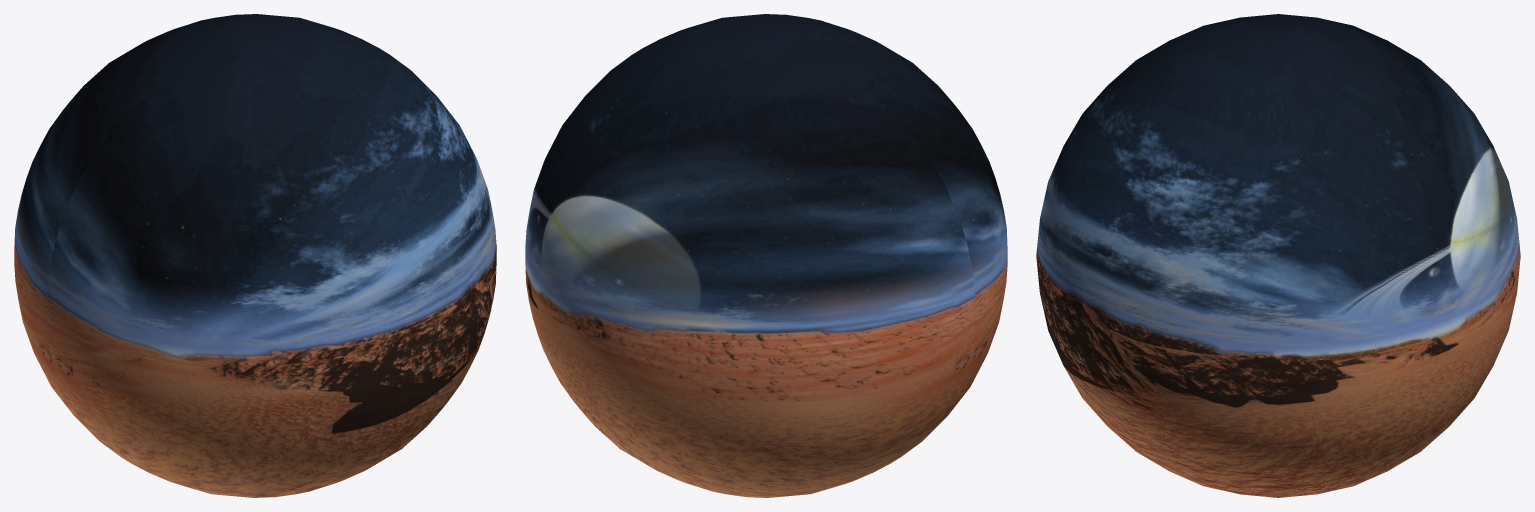
The model's file is skysphere2.fbx.
The picture shows the model from 3 angles, left to right: view 1: azimuth 30°, elevation 25°; view 2: azimuth 150°, elevation 25°; view 3: azimuth 270°, elevation 25°; orthographic projection.
Parts seen in each view (by area): view 1: Sphere; view 2: Sphere; view 3: Sphere.
Part boxes in pixels (x1,y1,x2,y2): Sphere: (14, 14, 496, 497); Sphere: (525, 14, 1007, 497); Sphere: (1036, 14, 1520, 497).
Bounding box in the file's own units: 1.97 × 1.97 × 1.97.
1 material, 1 textured.
